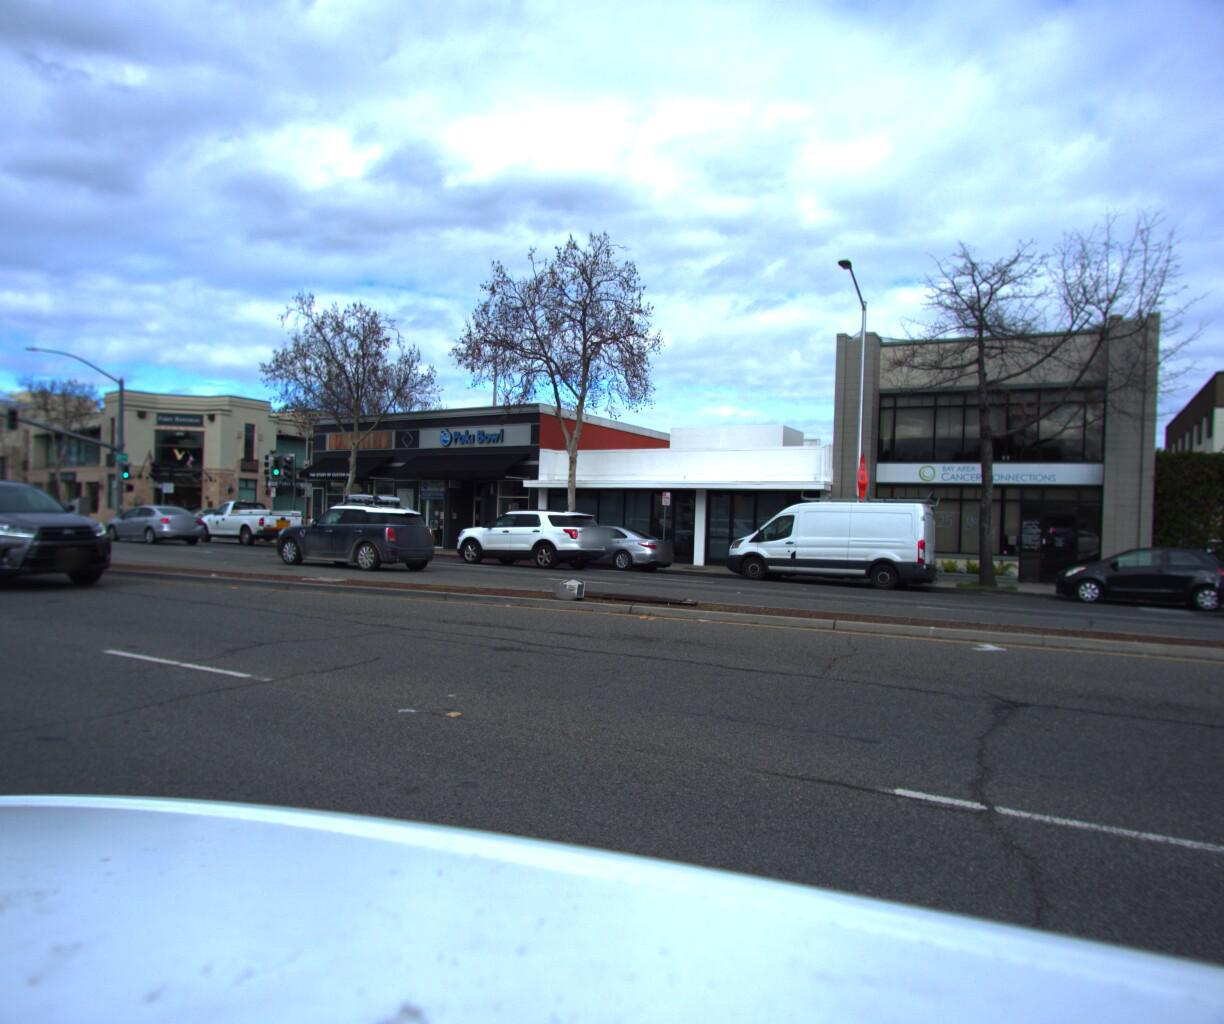car: (708, 481, 950, 594), (0, 470, 143, 600), (272, 483, 457, 570), (1043, 537, 1224, 616), (446, 502, 620, 569), (513, 518, 684, 573), (190, 492, 308, 543), (97, 496, 215, 542), (1183, 526, 1224, 602), (144, 501, 244, 529), (1216, 522, 1224, 644)
